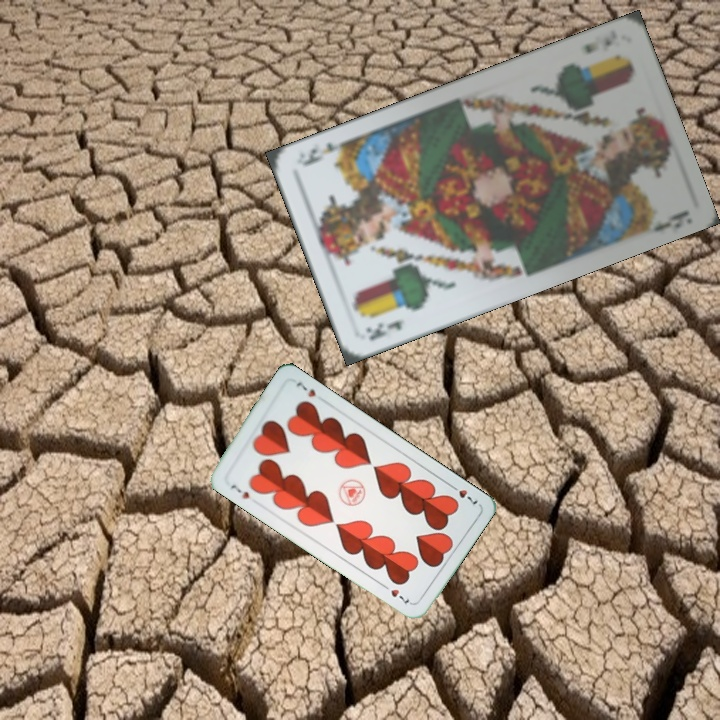EK: (361, 315, 407, 343), (579, 26, 619, 56)
H7: (445, 480, 481, 507), (226, 480, 252, 502)
